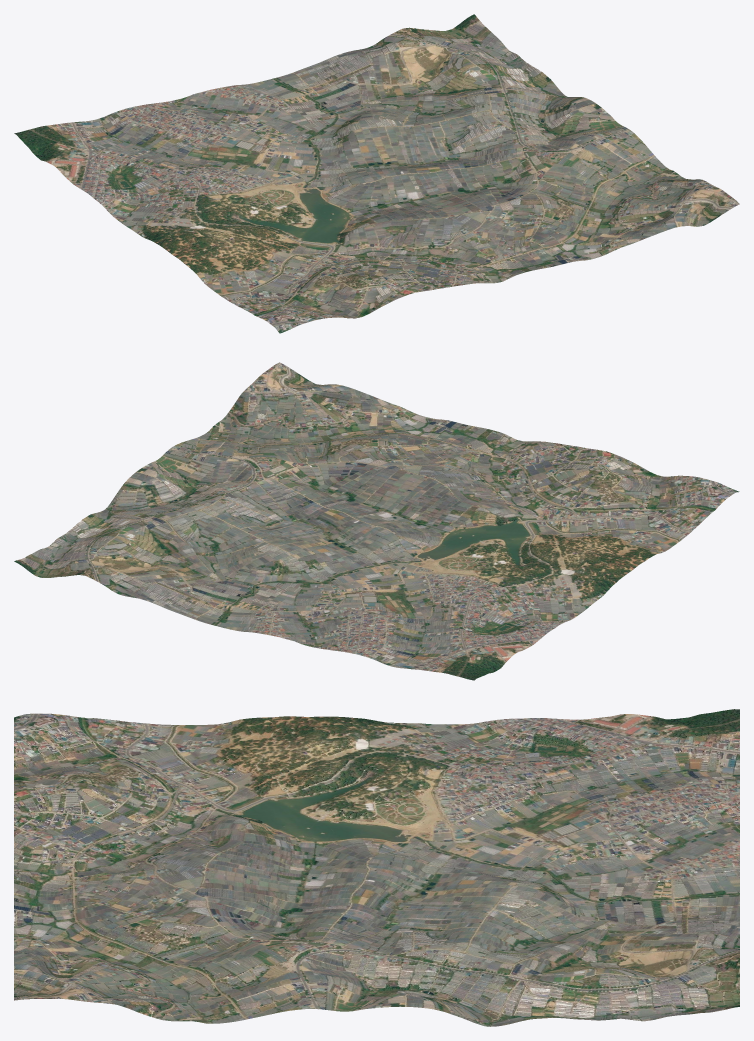
File: terrain_real_T_E02_N01.glb
3 renders of one model, top to bottom at view 1: azimuth 30°, elevation 25°; view 2: azimuth 150°, elevation 25°; view 3: azimuth 270°, elevation 25°, orthographic. The views are drawn at different scales.
Visible parts, largest first — view 1: TerrainReal_T_E02_N01; view 2: TerrainReal_T_E02_N01; view 3: TerrainReal_T_E02_N01.
Part boxes in pixels (bbox=[...]): TerrainReal_T_E02_N01: bbox=[14, 14, 739, 333]; TerrainReal_T_E02_N01: bbox=[14, 362, 739, 680]; TerrainReal_T_E02_N01: bbox=[14, 709, 739, 1026].
Size of the model in its own units: 2000 by 100 by 2000.
1 material, 1 textured.
